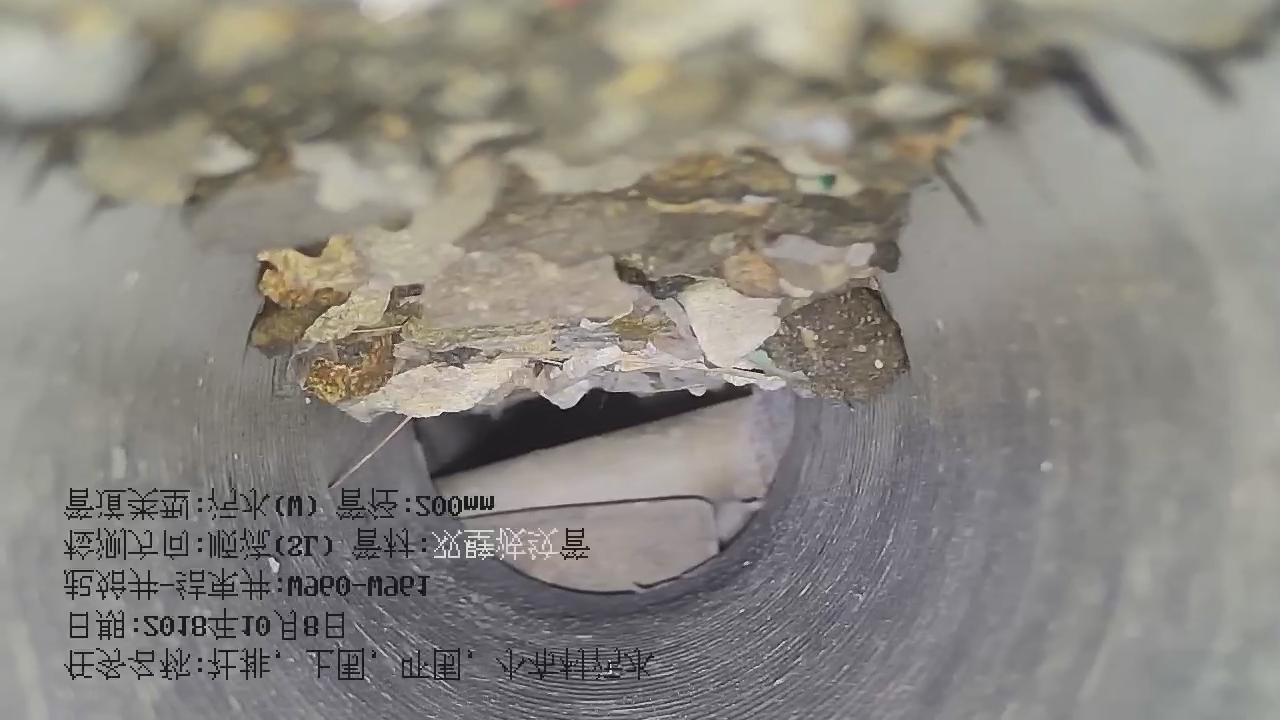CJ: (0, 1, 1077, 421)
YWCR: (433, 392, 794, 592)
